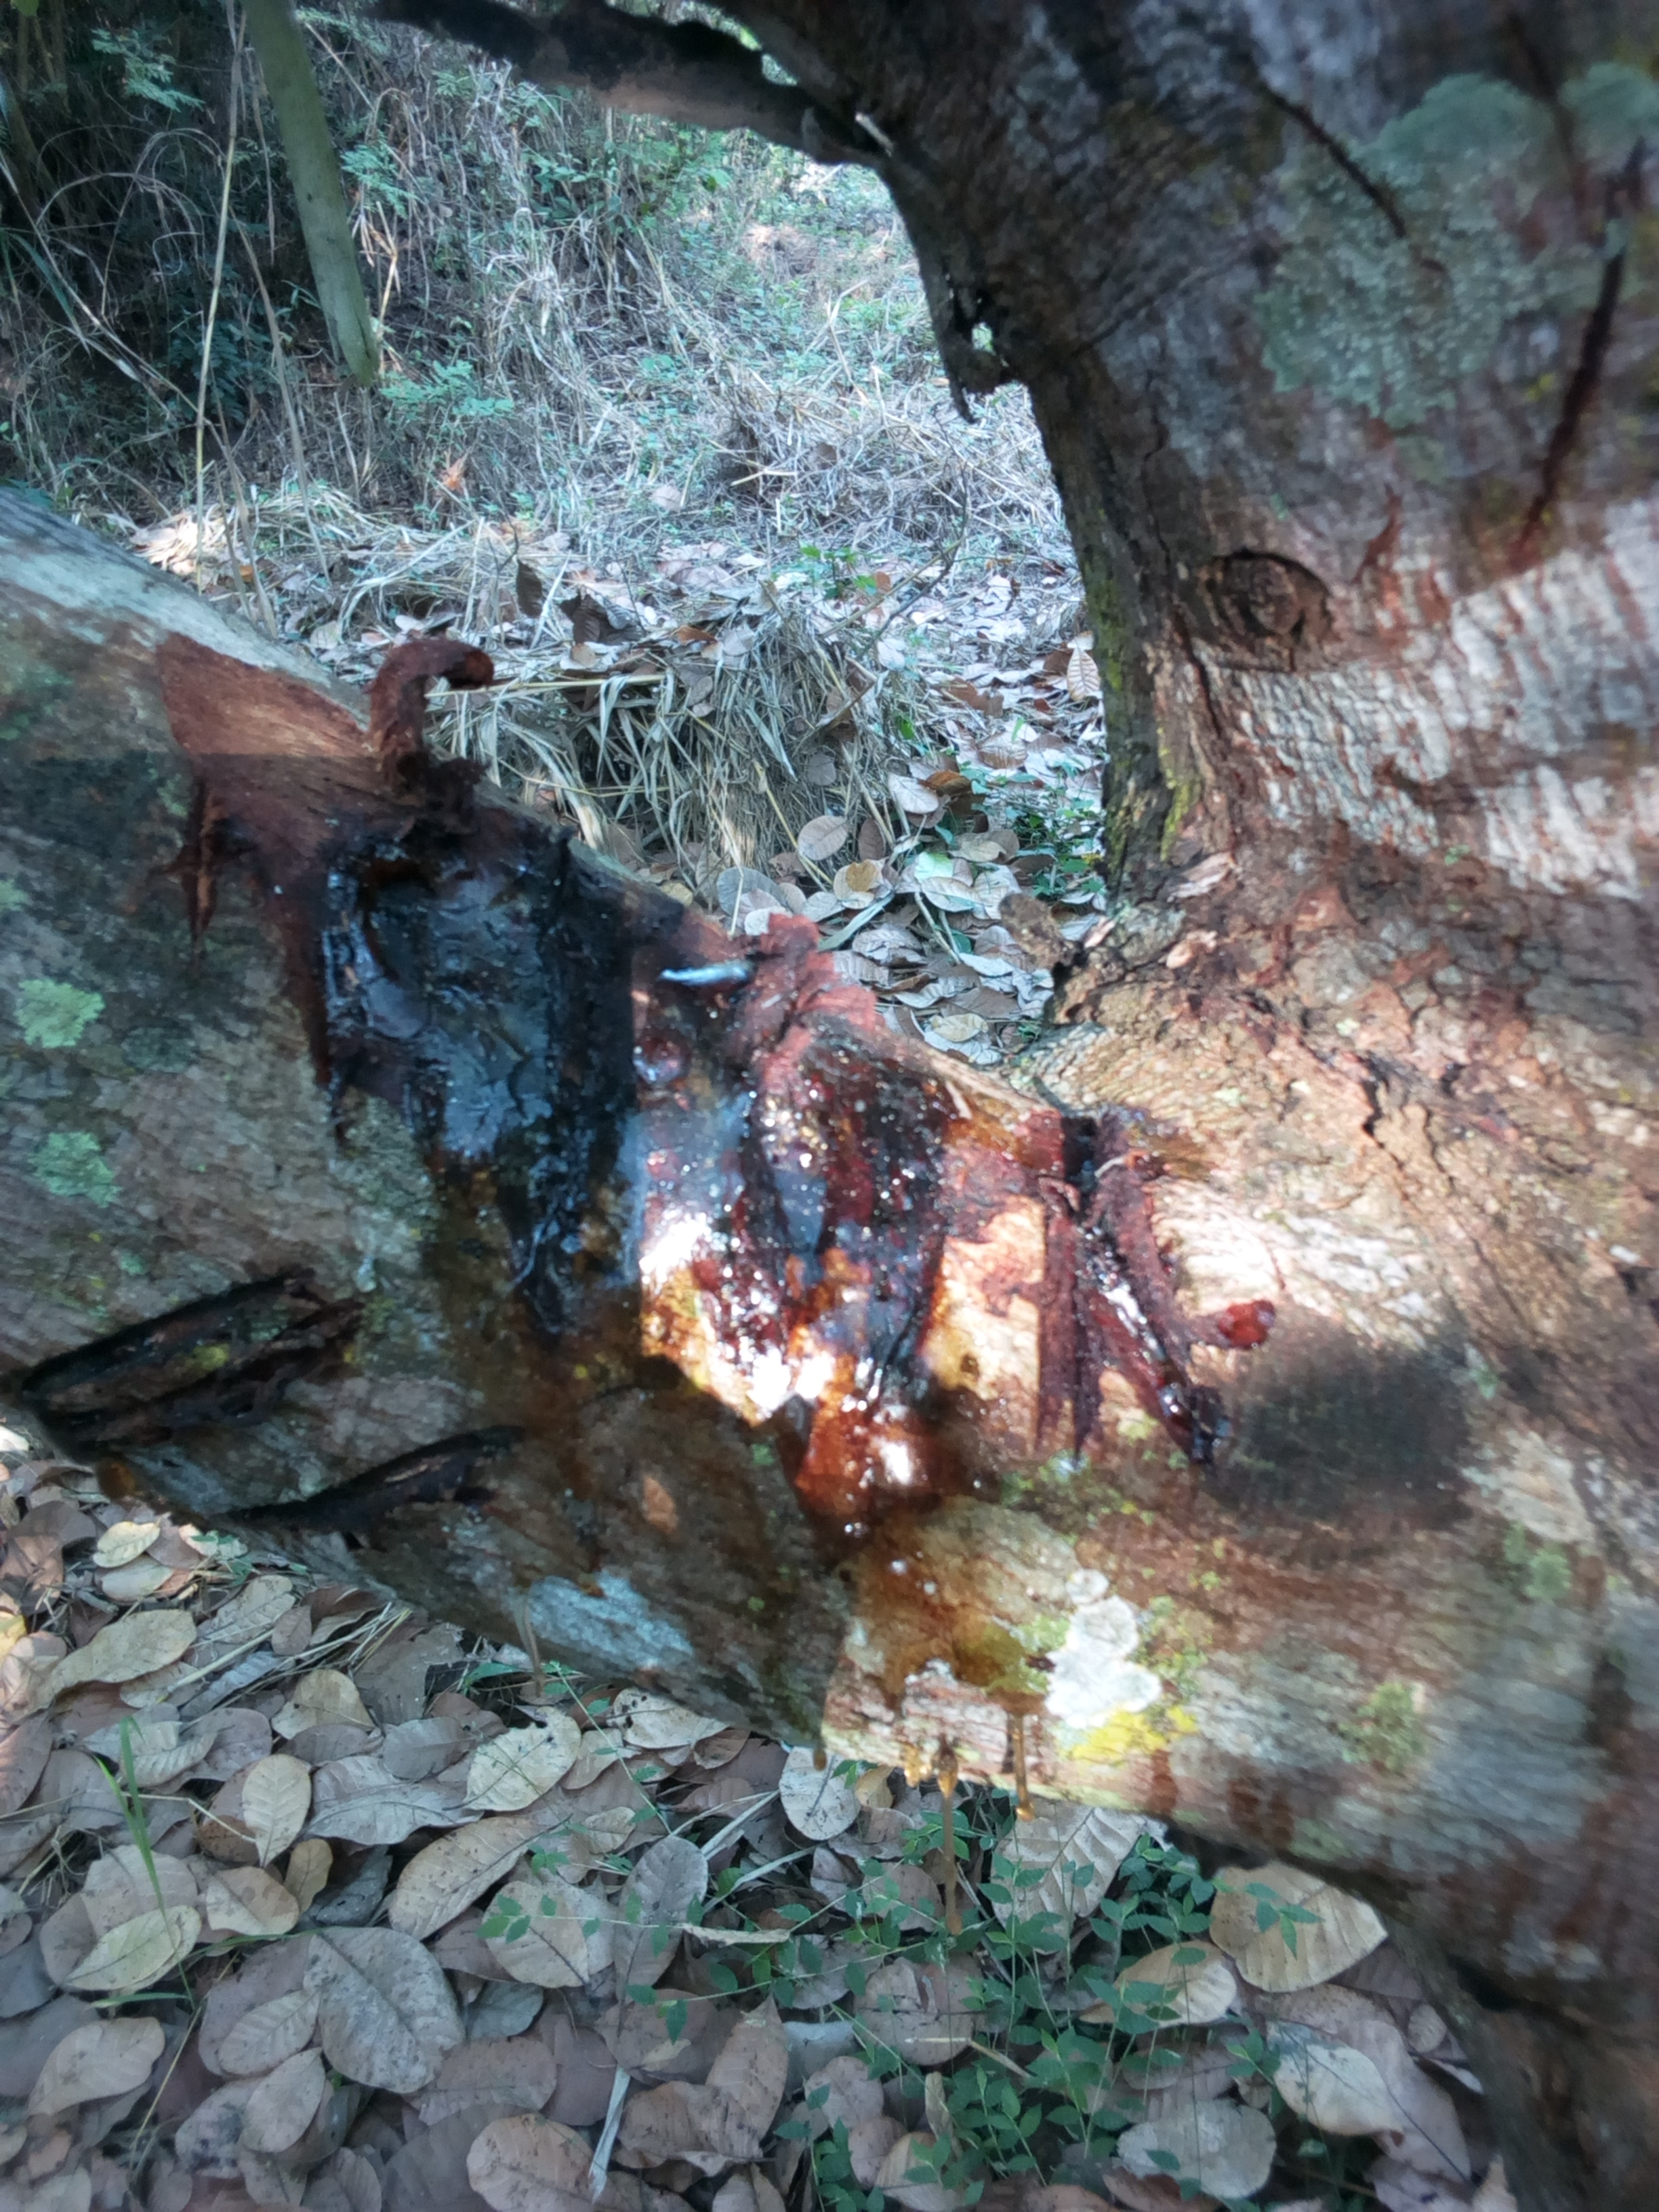Gommose: (263, 773, 1232, 1564)
